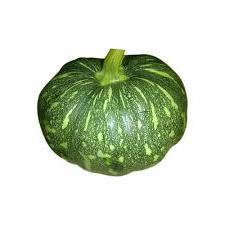pumpkin: (36, 47, 187, 176)
